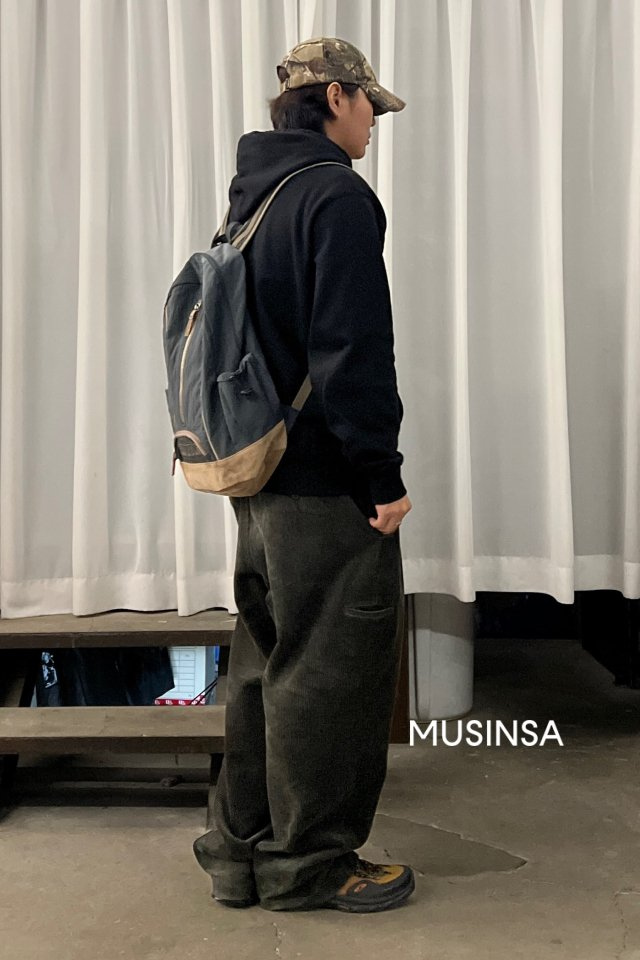Backpack: (152, 227, 304, 496)
Cap: (272, 37, 409, 116)
Pants: (195, 472, 409, 863)
Shoes: (326, 846, 416, 916)
Top: (220, 123, 420, 504)
